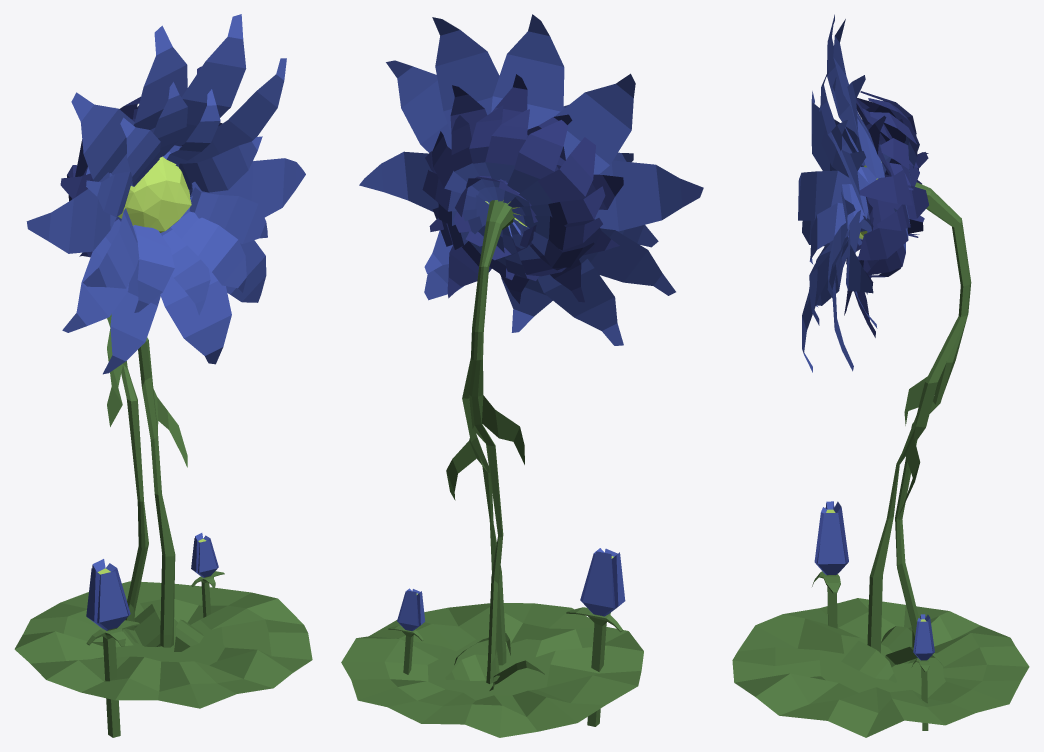
The model's file is flower_2.glb.
3 renders of one model, left to right at view 1: azimuth 30°, elevation 25°; view 2: azimuth 150°, elevation 25°; view 3: azimuth 270°, elevation 25°, orthographic.
Parts seen in each view (by area): view 1: Flower02Plant; view 2: Flower02Plant; view 3: Flower02Plant.
Part boxes in pixels (x1,y1,x2,y2): Flower02Plant: [14, 14, 312, 737]; Flower02Plant: [341, 14, 703, 737]; Flower02Plant: [732, 14, 1029, 737].
Size of the model in its own units: 0.5281 by 1.13 by 0.4373.
